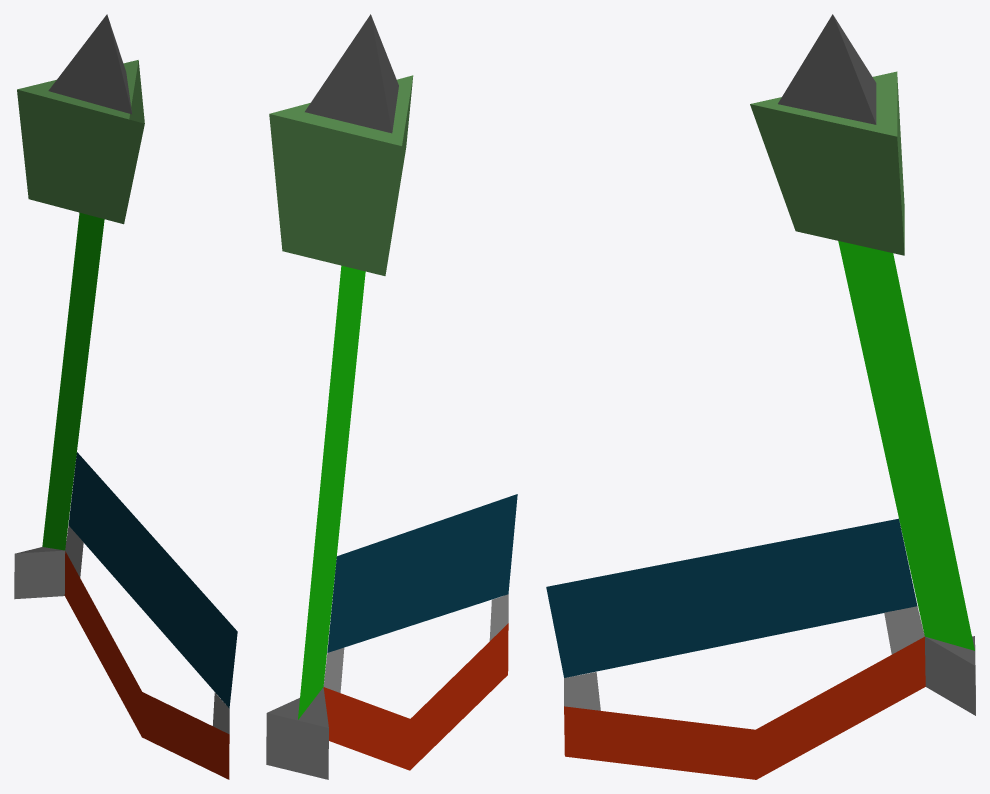
File: post02.obj
3 views of the same model, side by side, from view 1: azimuth 30°, elevation 25°; view 2: azimuth 150°, elevation 25°; view 3: azimuth 270°, elevation 25° (orthographic). The views are drawn at different scales.
Visible parts, largest first — view 1: Cube.026_Cube.024; view 2: Cube.026_Cube.024; view 3: Cube.026_Cube.024.
Part boxes in pixels (x1=…): Cube.026_Cube.024: x1=14, y1=14, x2=237, y2=779; Cube.026_Cube.024: x1=266, y1=14, x2=517, y2=779; Cube.026_Cube.024: x1=546, y1=14, x2=975, y2=779.
Size of the model in its own units: 22 by 120 by 61.24.
